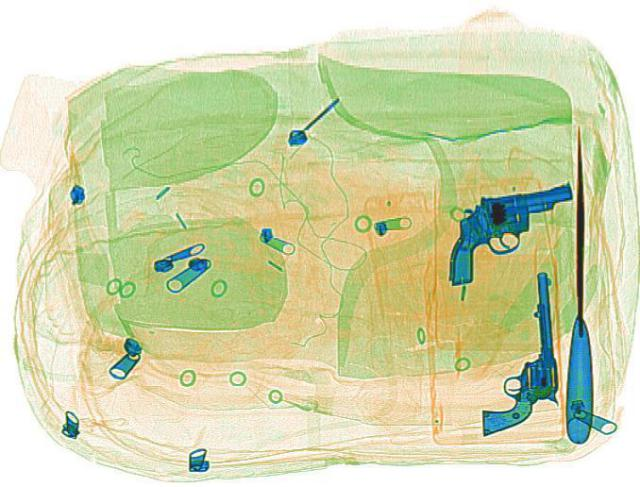Gun: (420, 181, 598, 284), (463, 268, 562, 434)
Knife: (564, 124, 592, 441)
